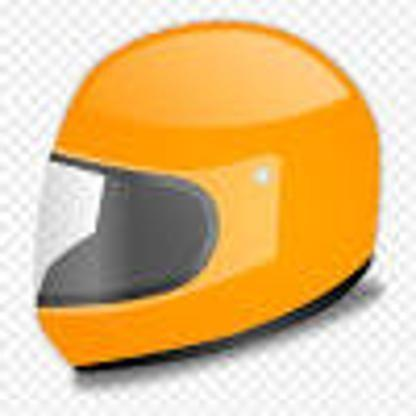not trash: (32, 22, 378, 367)
